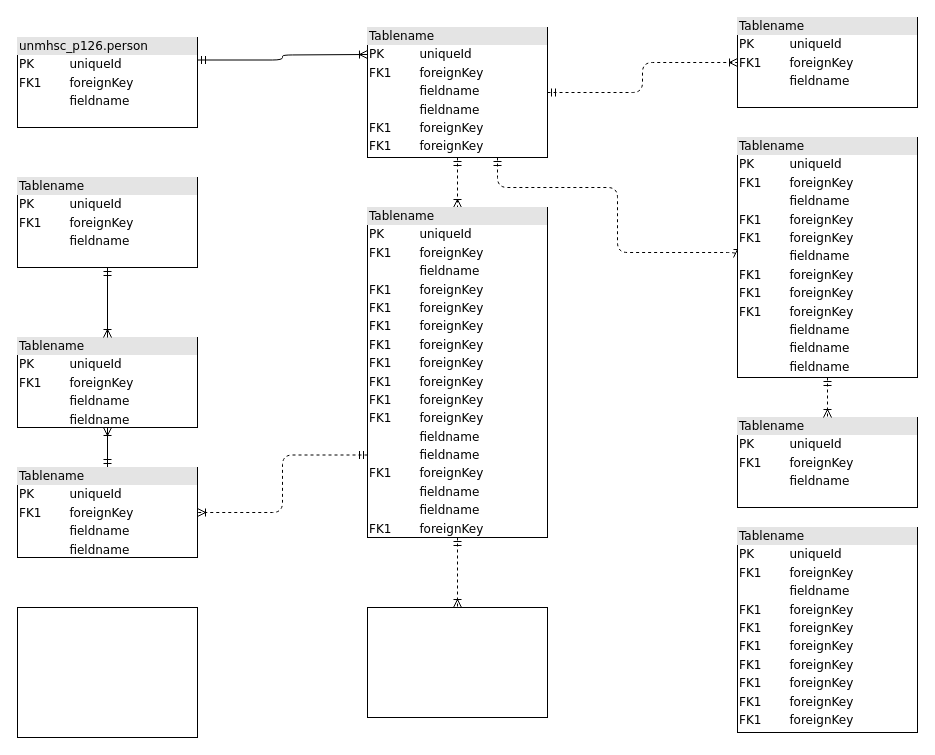
This 935x755 diagram has some shape labels left out. Here are the shapes that lost their labels. From the top down, the centre of each, then its label:
At point 107,672: "Tablename PK uniqueId FK1 foreignKey fieldname fieldname fieldname fieldname".
At point 457,662: "Tablename PK uniqueId FK1 foreignKey fieldname fieldname FK1 foreignKey".
